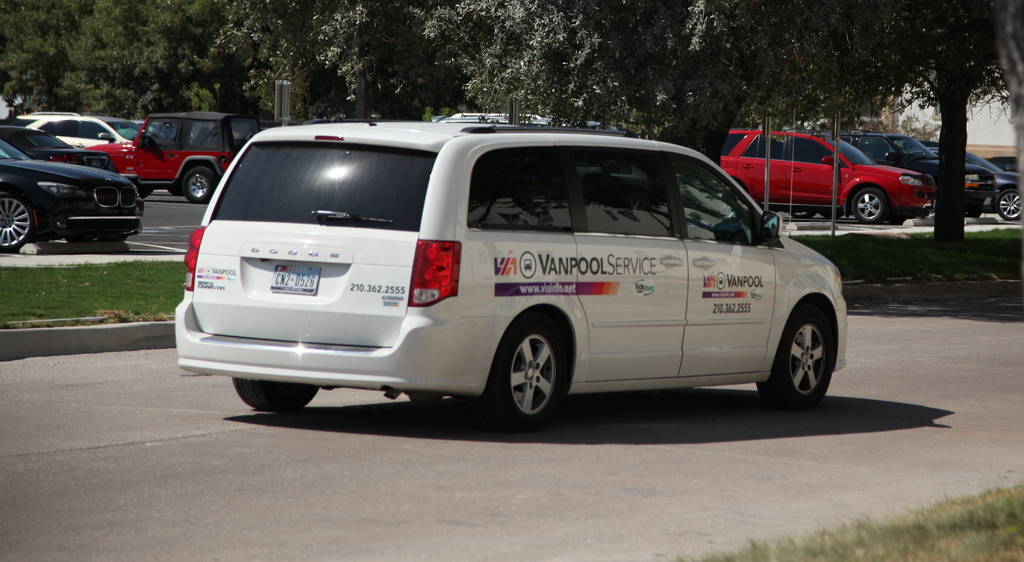Car: (0, 106, 1023, 437)
